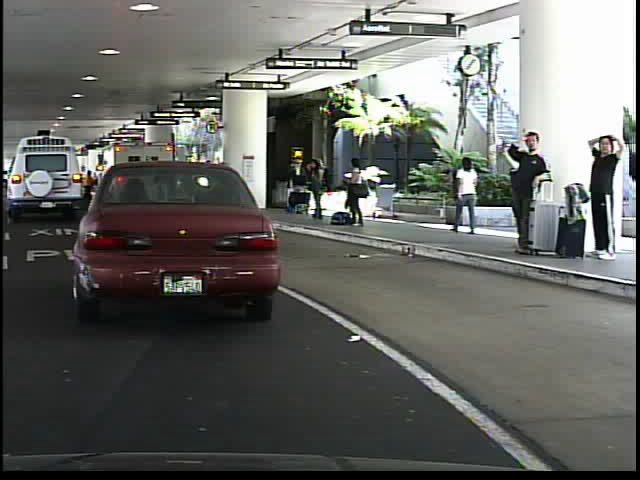person: (502, 125, 549, 256), (581, 124, 619, 263), (444, 154, 484, 235), (339, 156, 366, 228)
